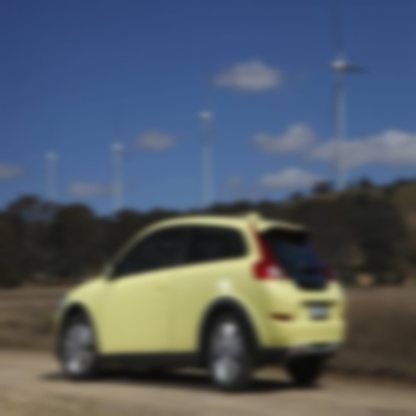Vehicle: (51, 204, 348, 397)
